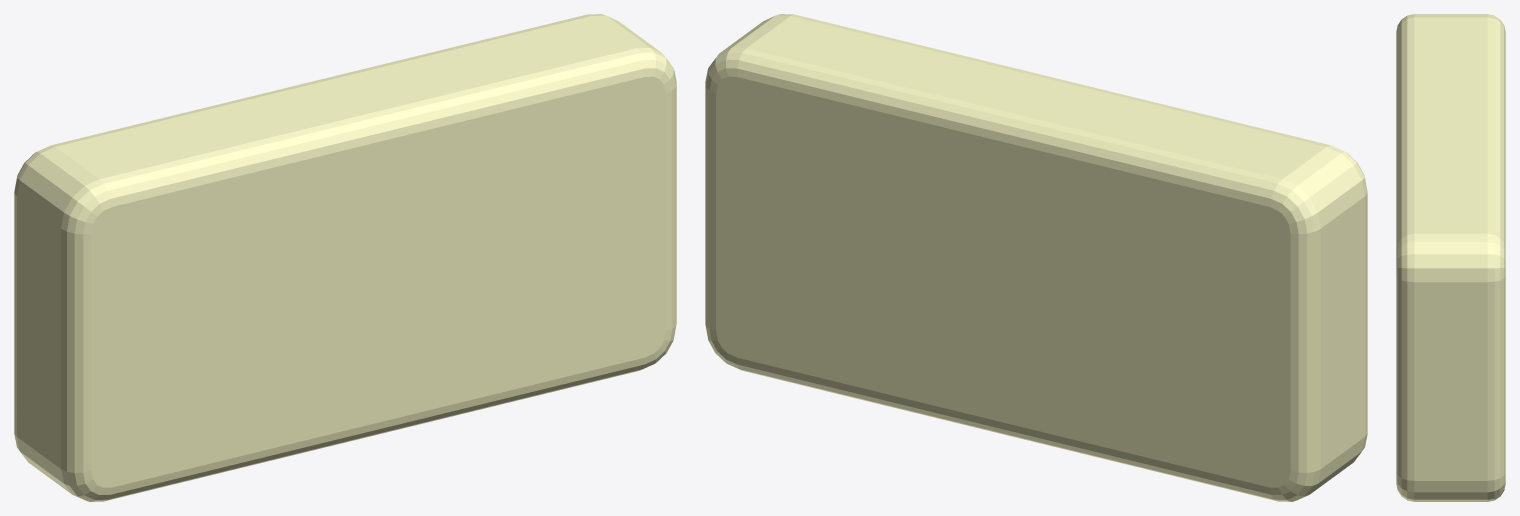
File: dominoesBlender.glb
3 views of the same model, side by side, from view 1: azimuth 30°, elevation 25°; view 2: azimuth 150°, elevation 25°; view 3: azimuth 270°, elevation 25° (orthographic). The views are drawn at different scales.
Parts seen in each view (by area): view 1: G-Object; view 2: G-Object; view 3: G-Object.
Boxes of the visible parts, left/top/right/bottom form: G-Object: left=14, top=14, right=676, bottom=501; G-Object: left=705, top=14, right=1367, bottom=501; G-Object: left=1396, top=14, right=1505, bottom=501.
Bounding box in the file's own units: 0.0508 × 0.0254 × 0.00953.
